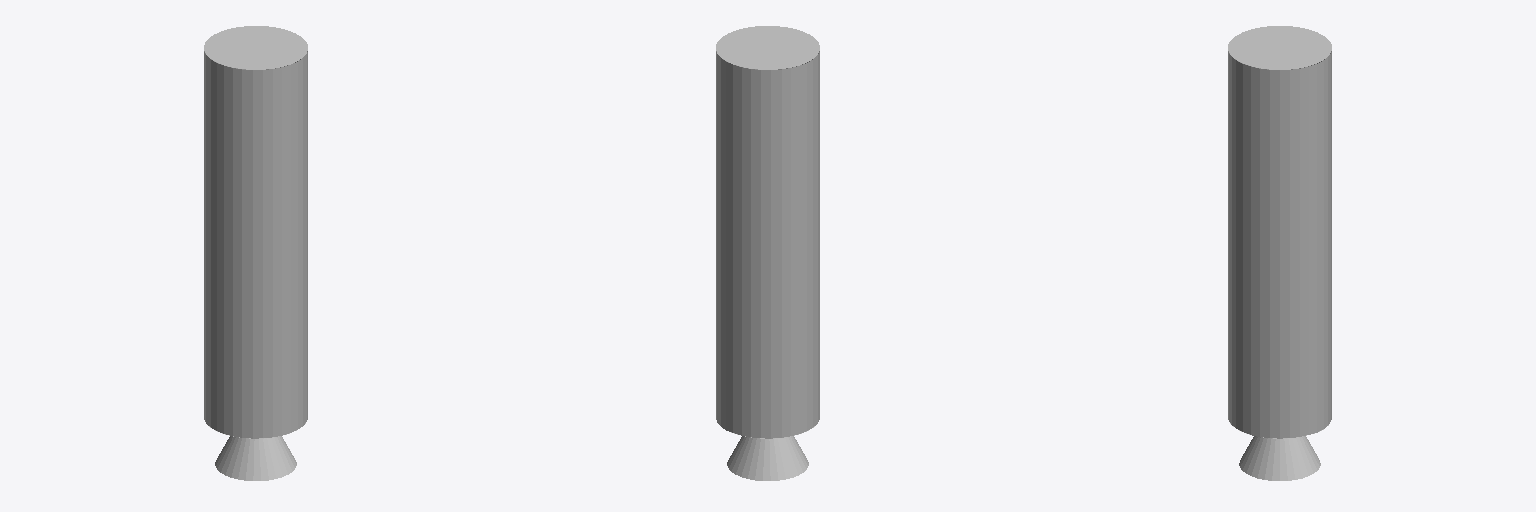
The model's file is rocketbody.obj.
The picture shows the model from 3 angles: view 1: azimuth 30°, elevation 25°; view 2: azimuth 150°, elevation 25°; view 3: azimuth 270°, elevation 25°; orthographic projection.
Parts seen in each view (by area): view 1: RocketBody, RocketBodyTop_RocketBody.003, Thruster_RocketBody.001; view 2: RocketBody, RocketBodyTop_RocketBody.003, Thruster_RocketBody.001; view 3: RocketBody, RocketBodyTop_RocketBody.003, RocketBodyStripe_RocketBody.004, Thruster_RocketBody.001.
Part boxes in pixels (x1,y1,x2,y2): RocketBody: (204,51,307,438); RocketBodyTop_RocketBody.003: (204,26,307,69); Thruster_RocketBody.001: (215,436,296,480); RocketBody: (716,51,819,438); RocketBodyTop_RocketBody.003: (716,26,819,69); Thruster_RocketBody.001: (727,436,808,480); RocketBody: (1228,51,1331,438); RocketBodyTop_RocketBody.003: (1228,26,1331,69); RocketBodyStripe_RocketBody.004: (1251,67,1259,436); Thruster_RocketBody.001: (1239,436,1320,480).
Size of the model in its own units: 3.66 by 16.05 by 3.66.